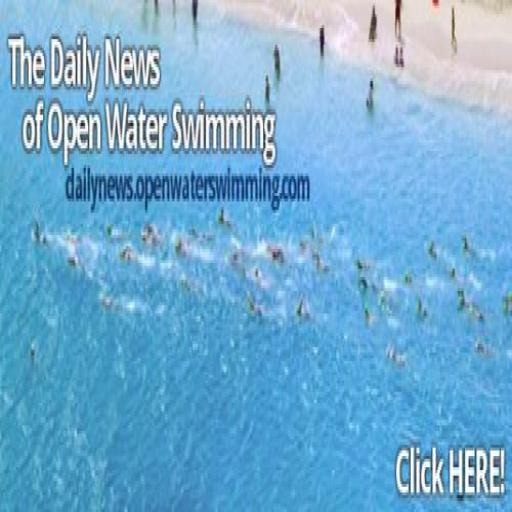swimming: (28, 199, 511, 369), (362, 72, 376, 118)
